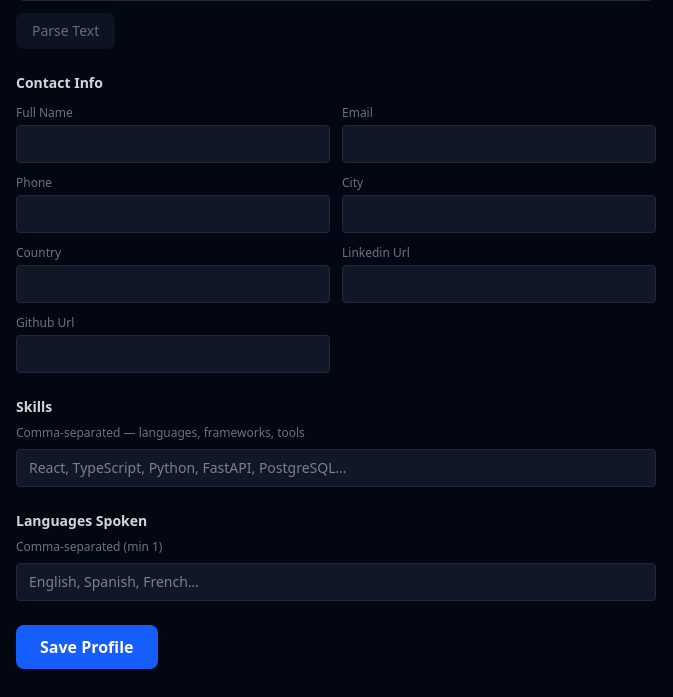
ProfileOnboarding › shows missing fields after save if profile incomplete
(page scrolled)
Click the button "Save Profile". click: click(87, 647)
box: [16,625,158,669]
(page scrolled)
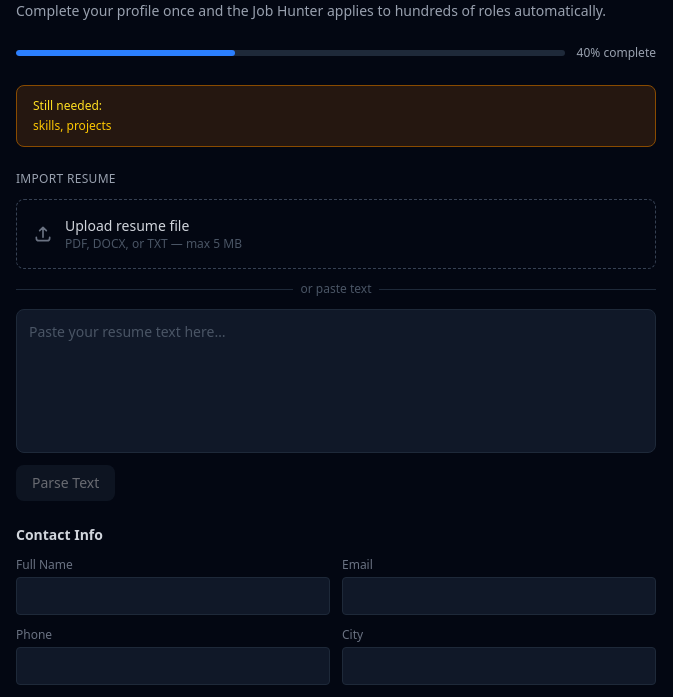
Result: the text "skills, projects" is shown at [33,117,112,134]
